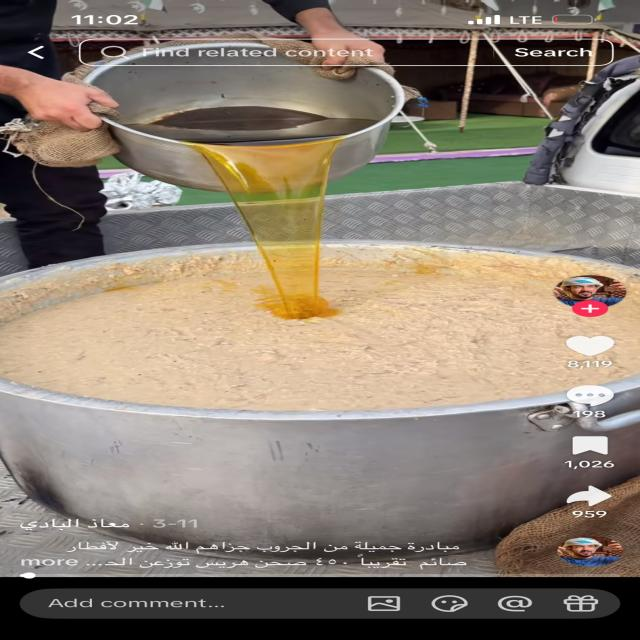Harees: (3, 233, 640, 413)
